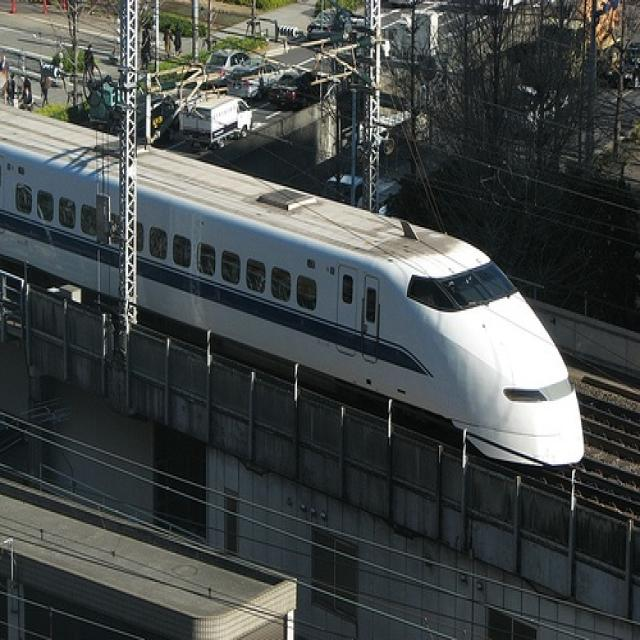car: (195, 46, 262, 91), (225, 60, 279, 99), (269, 66, 319, 106)
train: (0, 90, 595, 471)
